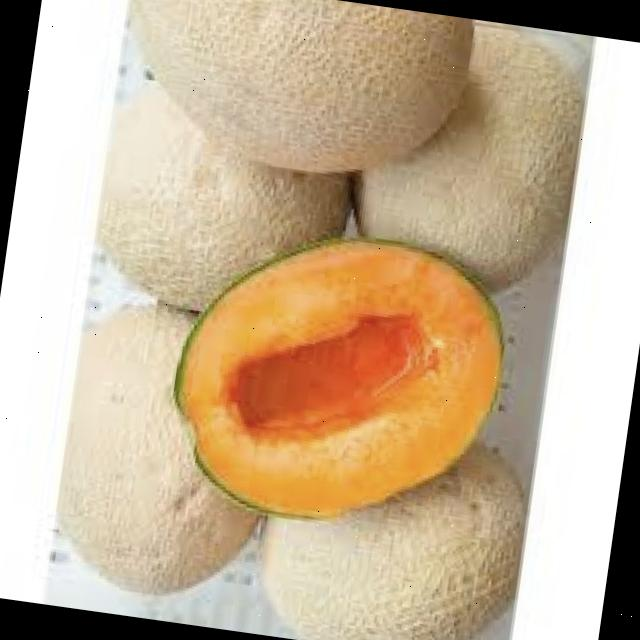Hami Melon: (159, 213, 516, 542), (334, 4, 592, 308), (47, 295, 282, 608), (109, 0, 481, 192), (85, 80, 362, 330), (252, 421, 535, 640)
